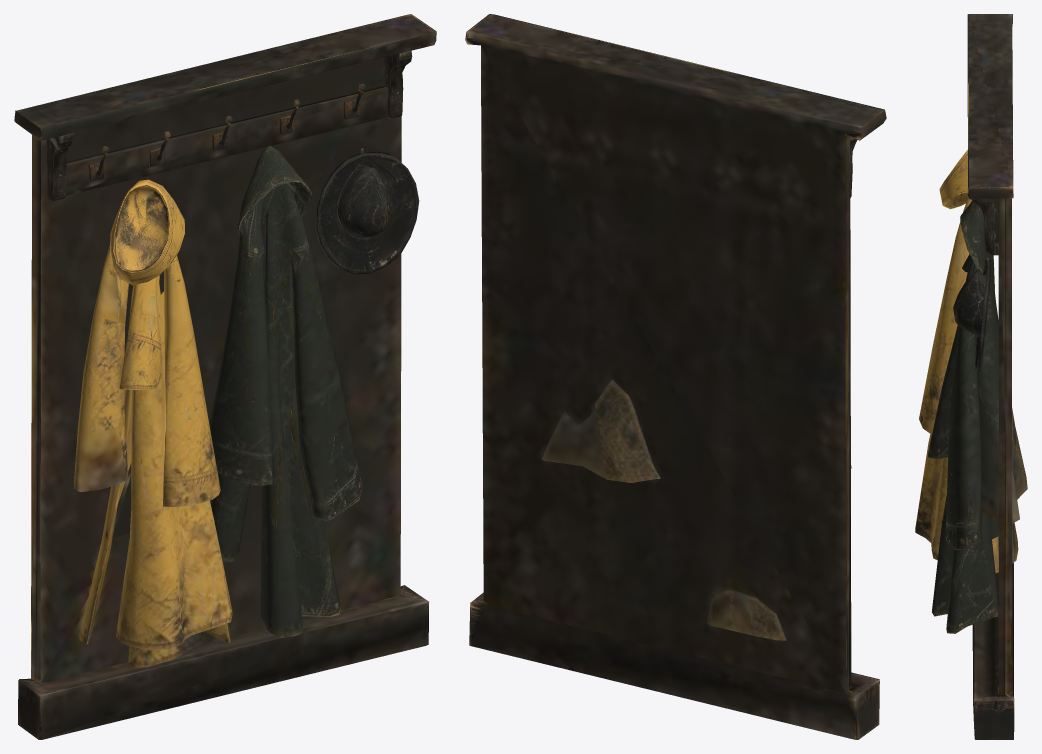
Rendered from coat_rack_oilskins.glb.
3 views of the same model, side by side, from view 1: azimuth 30°, elevation 25°; view 2: azimuth 150°, elevation 25°; view 3: azimuth 270°, elevation 25° (orthographic). The views are drawn at different scales.
Bounding box in the file's own units: 1.29 × 1.9 × 0.35.
1 material, 1 textured.
